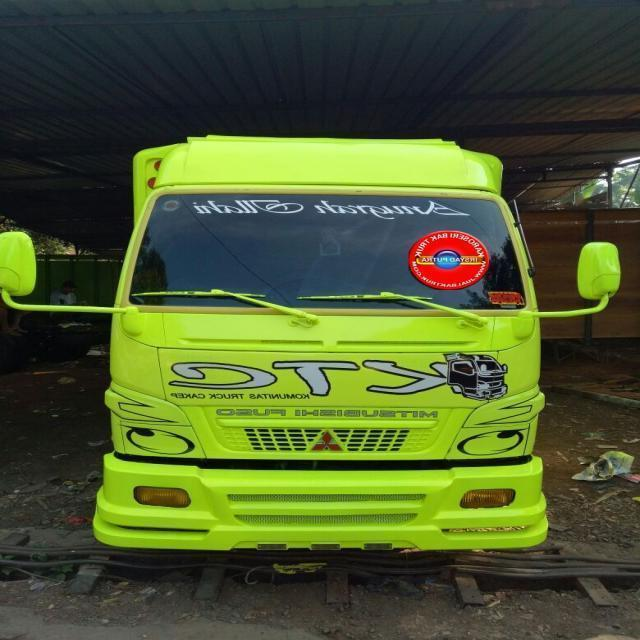Truck: (1, 136, 624, 552)
